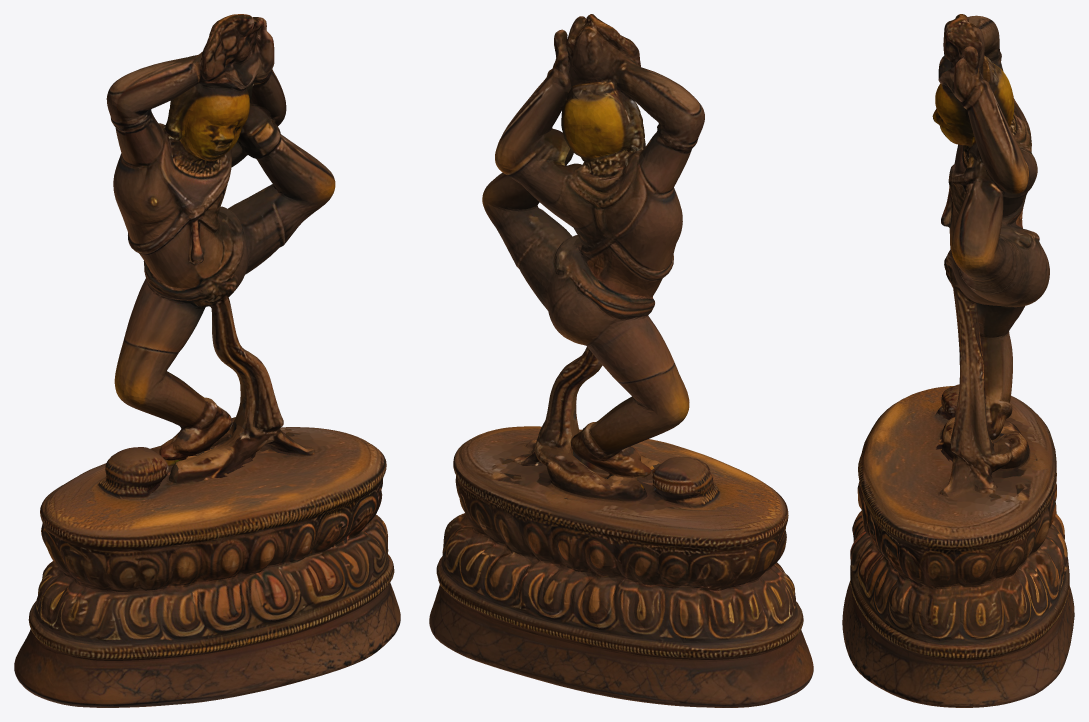
3 views of the same model, side by side, from view 1: azimuth 30°, elevation 25°; view 2: azimuth 150°, elevation 25°; view 3: azimuth 270°, elevation 25° (orthographic).
Parts seen in each view (by area): view 1: textured_mesh; view 2: textured_mesh; view 3: textured_mesh.
Part boxes in pixels (x1,y1,x2,y2): textured_mesh: (14,14,400,707); textured_mesh: (429,14,813,707); textured_mesh: (842,14,1074,707).
Size of the model in its own units: 1.2 by 1.99 by 0.6766.
Materials: 1 (1 with a texture image).
